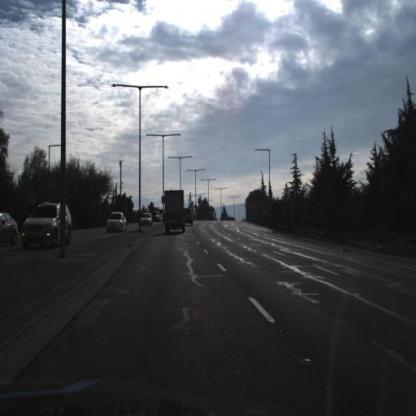car: (21, 202, 72, 251), (99, 208, 129, 235), (0, 213, 18, 244), (105, 210, 127, 232), (185, 202, 195, 227), (140, 212, 152, 228), (184, 208, 194, 225), (151, 210, 160, 224), (207, 210, 215, 221)
truck: (164, 189, 184, 233)
